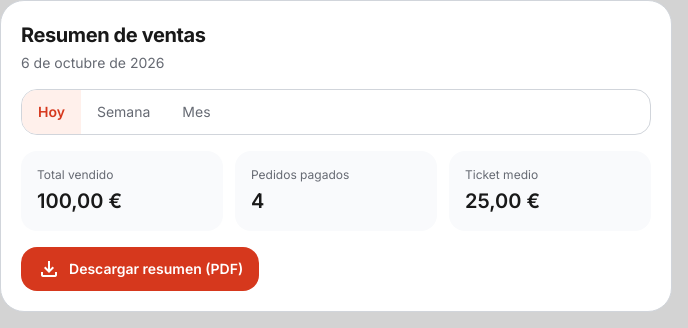
Test: SalesReportPanel › mientras genera el PDF el botón cambia de texto y se desactiva
Click the button with class "sales-report__download". click: click(140, 269)
box: [21,247,259,291]
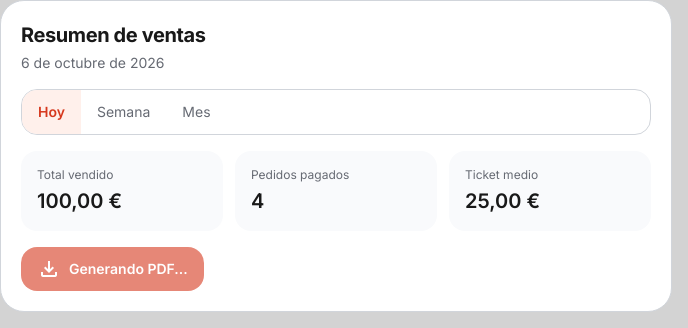
Result: the button with class "sales-report__download" reads "Generando PDF..." at [21,247,204,291]
Result: the button with class "sales-report__download" is disabled at [21,247,204,291]
